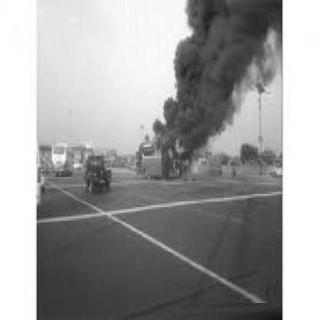Fire: (150, 119, 192, 182)
